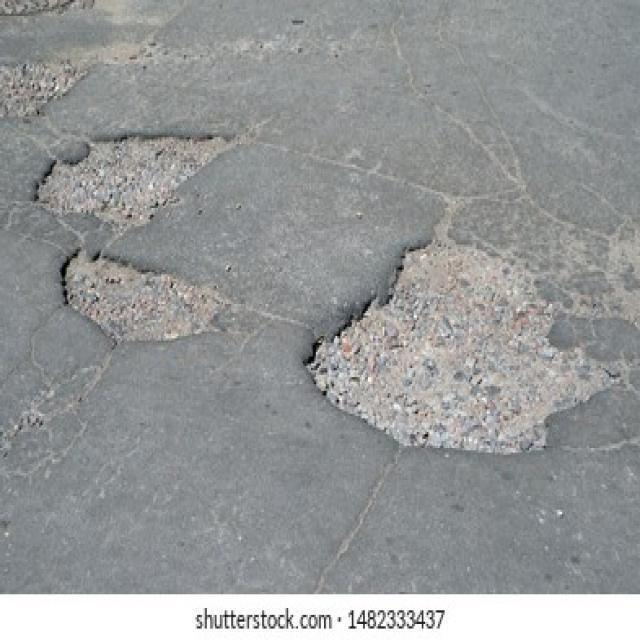Buraco: (302, 229, 612, 457), (31, 129, 233, 237), (54, 244, 228, 348), (0, 52, 91, 127)
